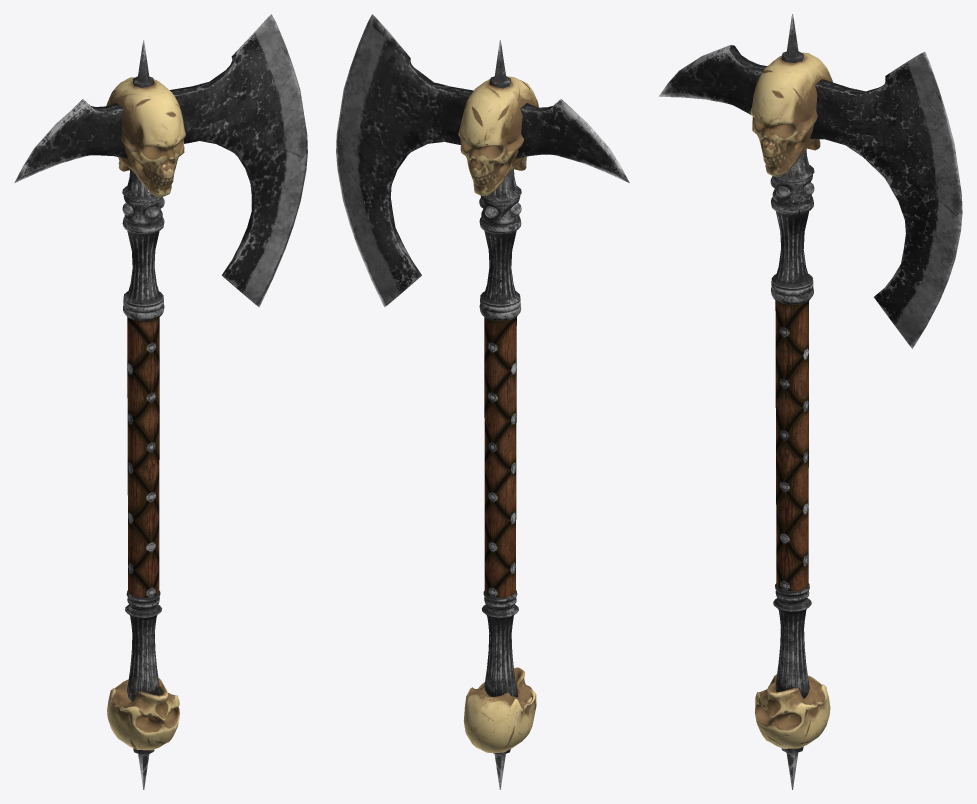
The model's file is axe.glb.
The picture shows the model from 3 angles, left to right: view 1: azimuth 30°, elevation 25°; view 2: azimuth 150°, elevation 25°; view 3: azimuth 330°, elevation 25°; orthographic projection. The views are drawn at different scales.
Parts seen in each view (by area): view 1: skull_axe; view 2: skull_axe; view 3: skull_axe.
Boxes of the visible parts, x1,y1,x2,y2 form: skull_axe: (14, 14, 307, 789); skull_axe: (336, 14, 629, 789); skull_axe: (658, 14, 962, 789).
Size of the model in its own units: 4.48 by 10.91 by 1.47.
Materials: 1 (1 with a texture image).
